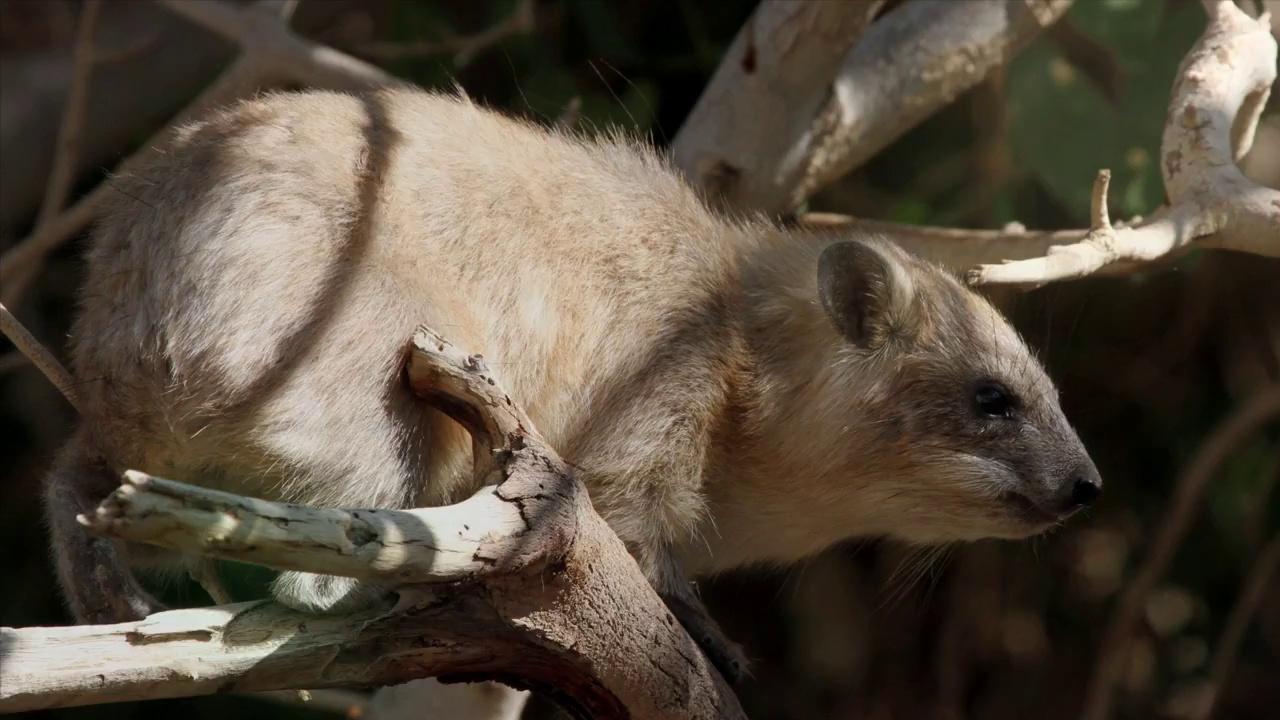Rock Hyrex: (50, 85, 1105, 661)
